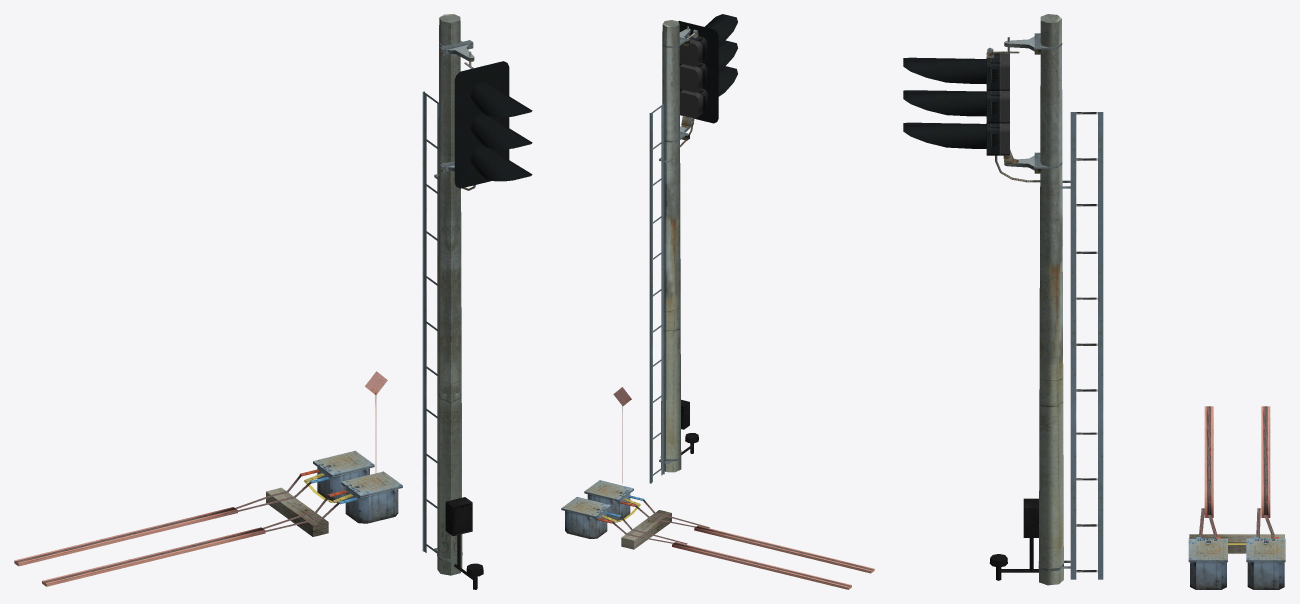
The model's file is signal_line_1.gltf.
3 views of the same model, side by side, from view 1: azimuth 30°, elevation 25°; view 2: azimuth 150°, elevation 25°; view 3: azimuth 270°, elevation 25° (orthographic). The views are drawn at different scales.
Bounding box in the file's own units: 4.08 × 6.05 × 3.73.
Materials: 1 (1 with a texture image).
